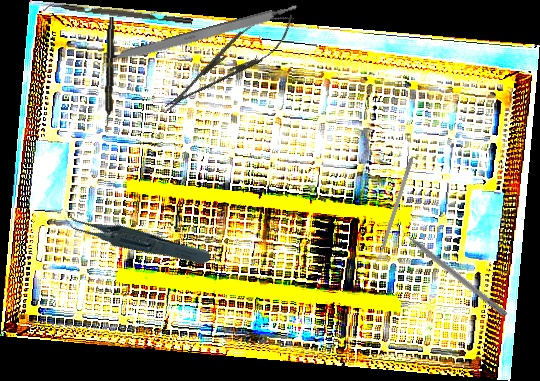Chopper: (369, 155, 414, 267), (42, 0, 193, 32)
Handpiece: (103, 16, 116, 128)
Needle Holder: (154, 0, 304, 124)
Pusher: (390, 219, 510, 319)
Scalpel Handle: (108, 2, 301, 67)
Tissue Forceps: (59, 180, 213, 294)
